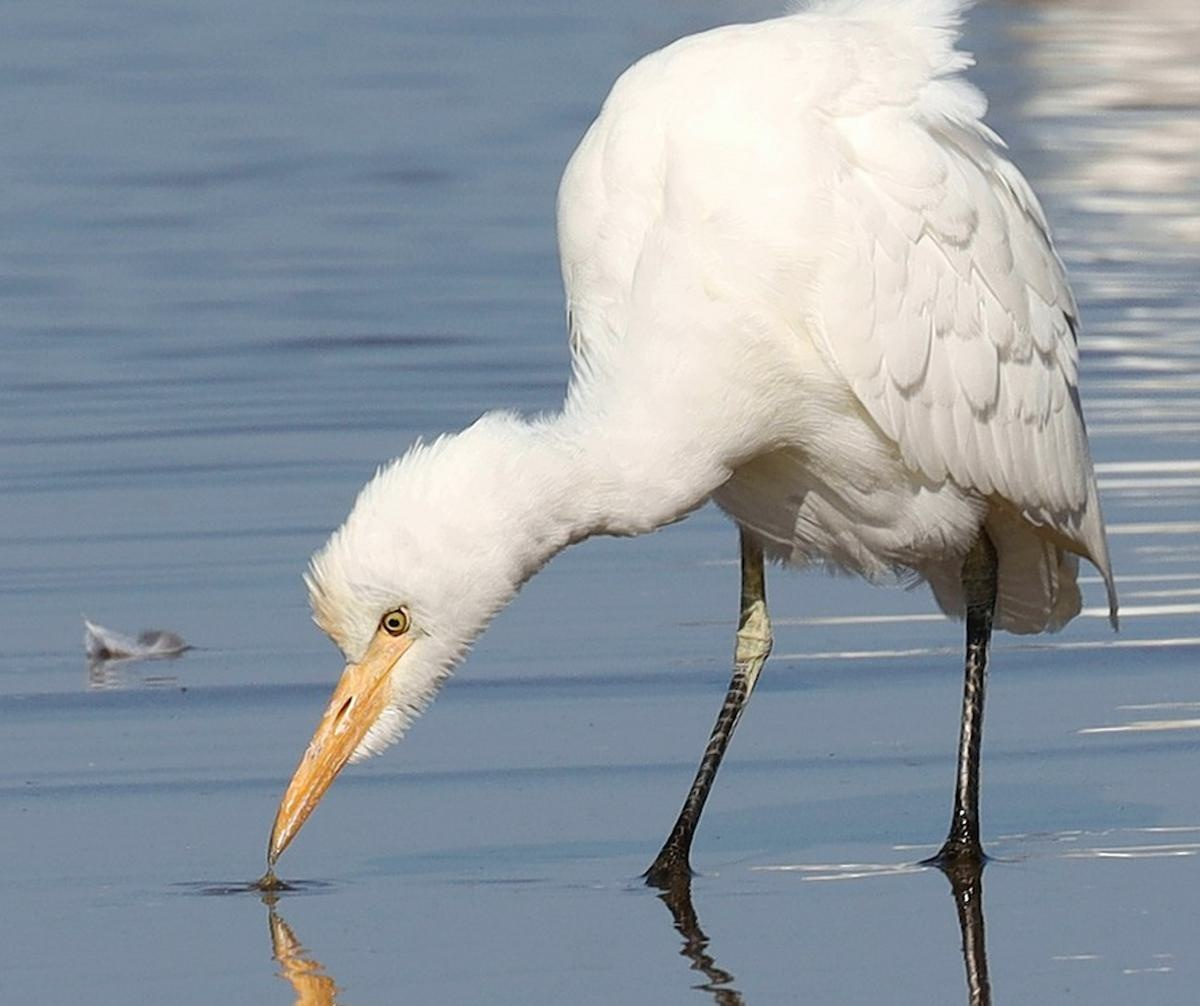egret: (189, 30, 1086, 916)
